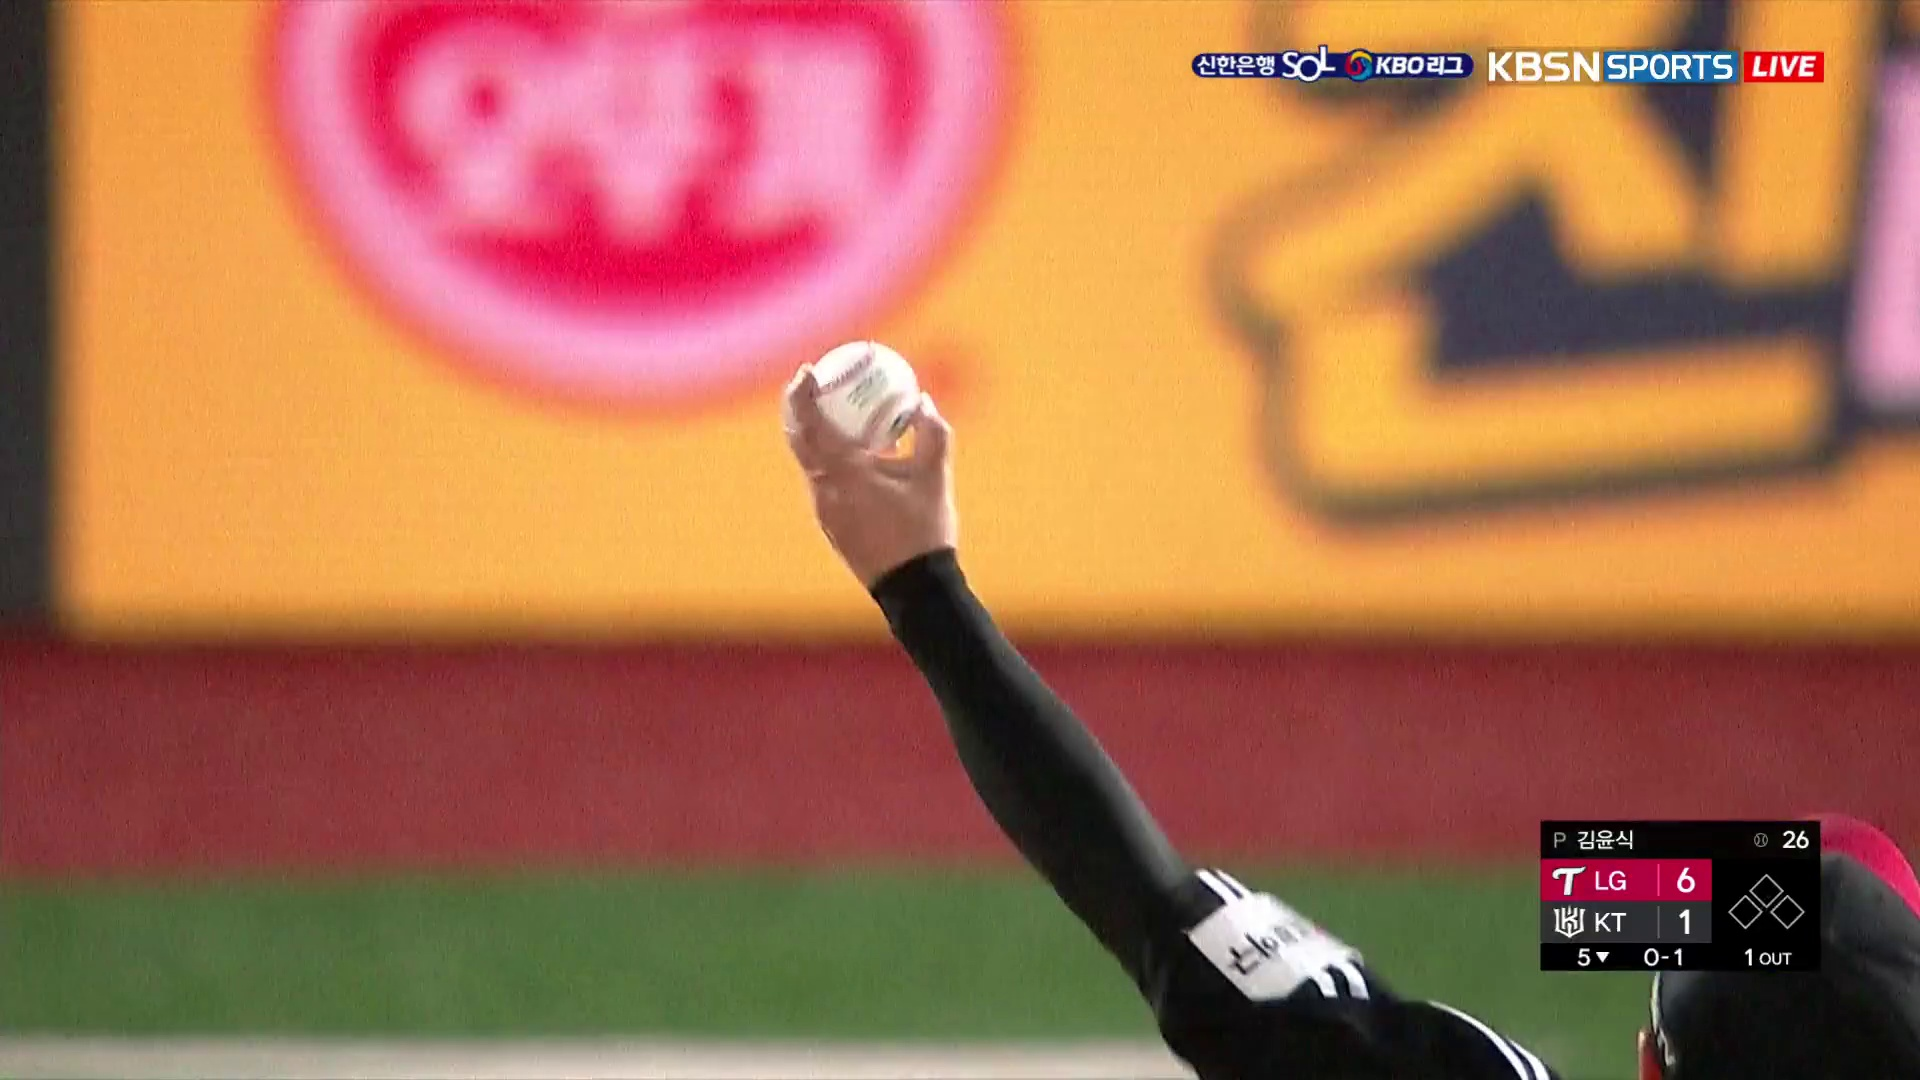zoomin_hand: (771, 334, 1236, 992)
